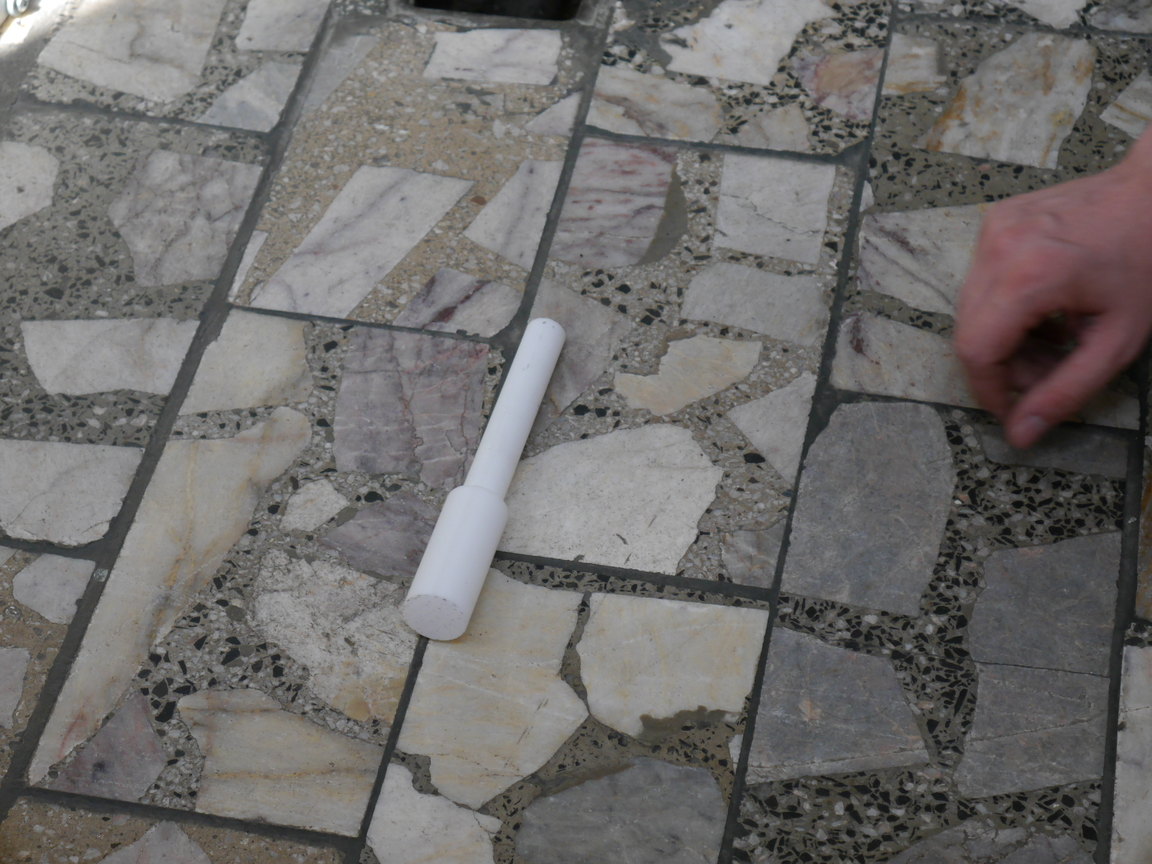cargo_g: (399, 318, 567, 643)
